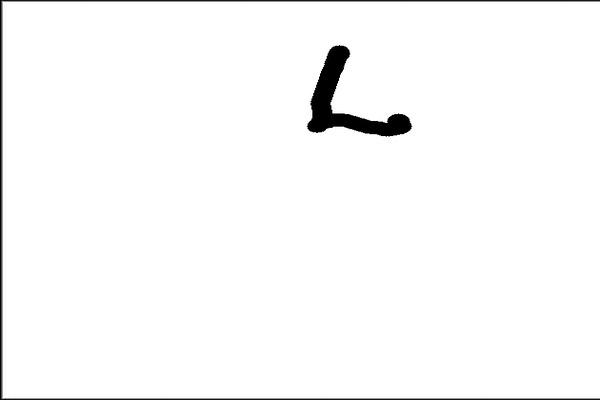L: (294, 36, 419, 142)
